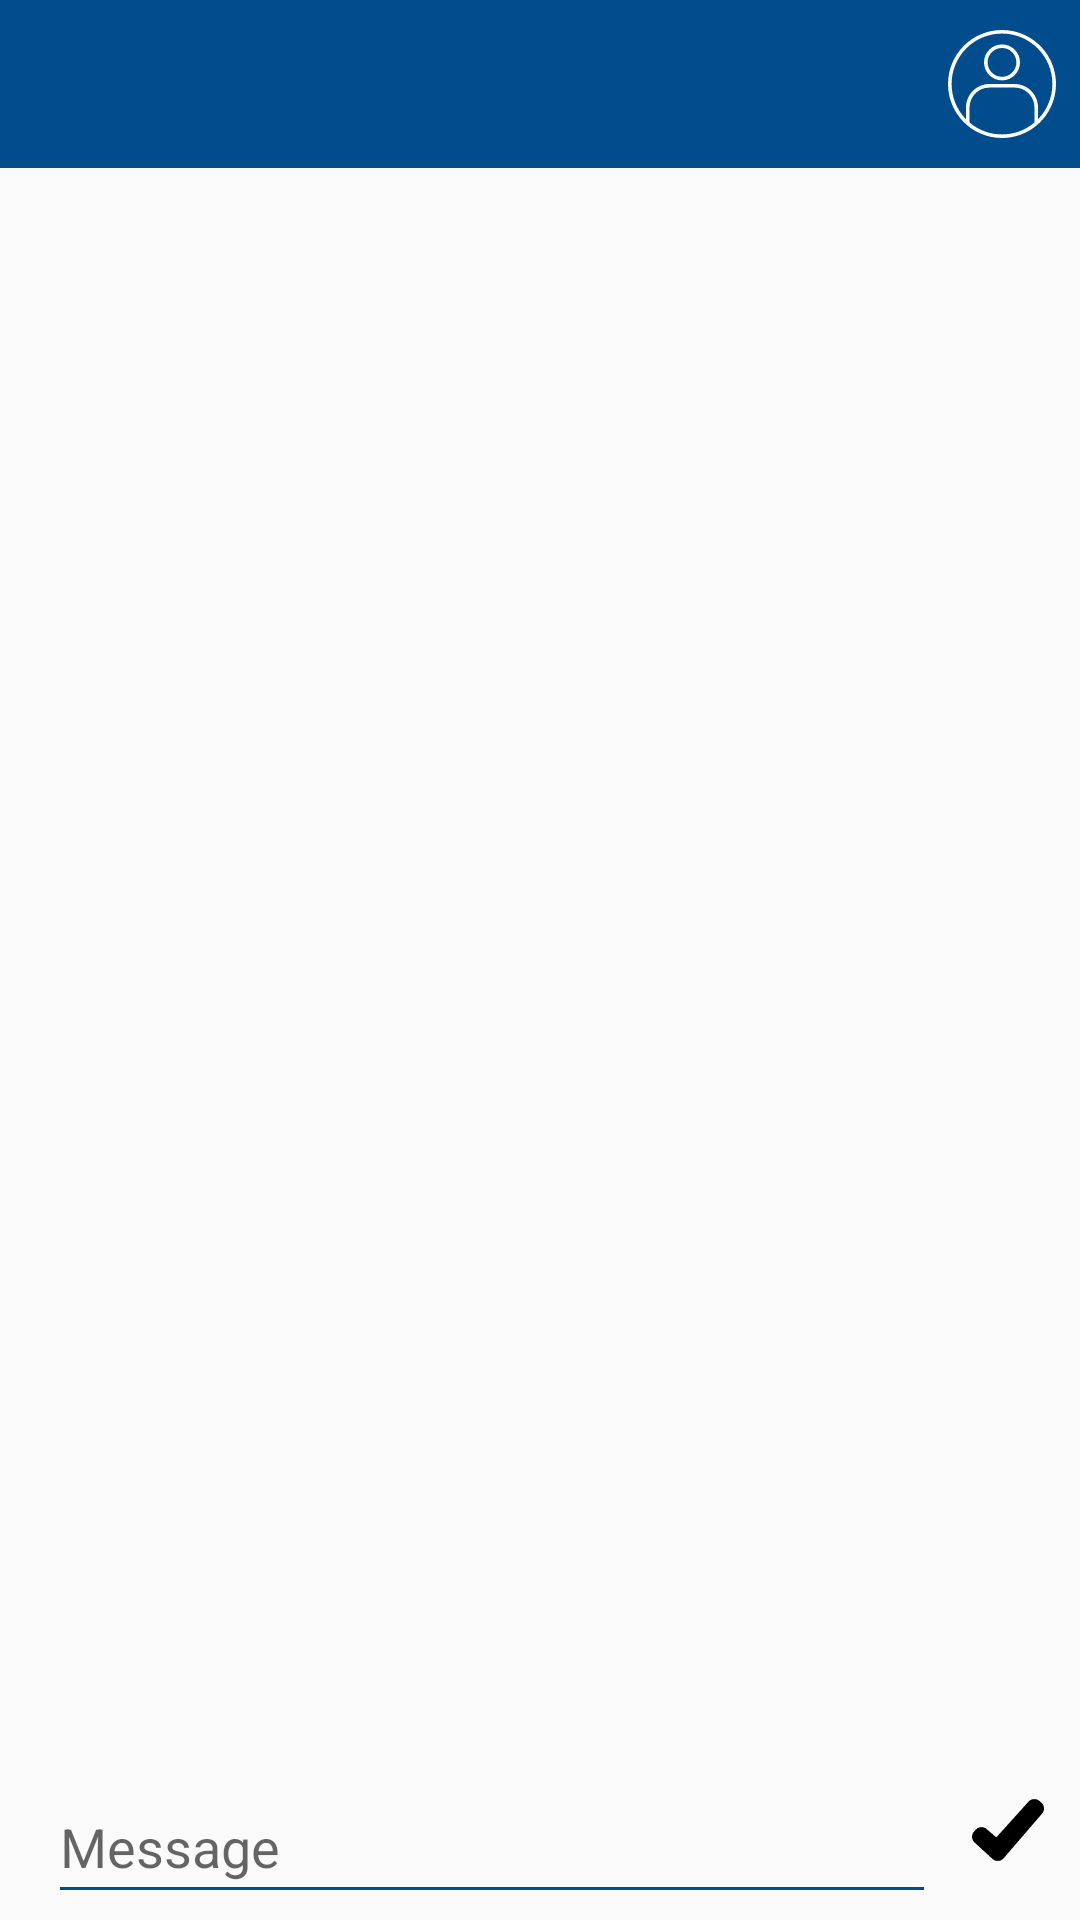

Screen size 1080 x 1920. Icon name, then its center in pixels as point (x, y):
done tick: point (1008, 1830)
user: point (1002, 84)
